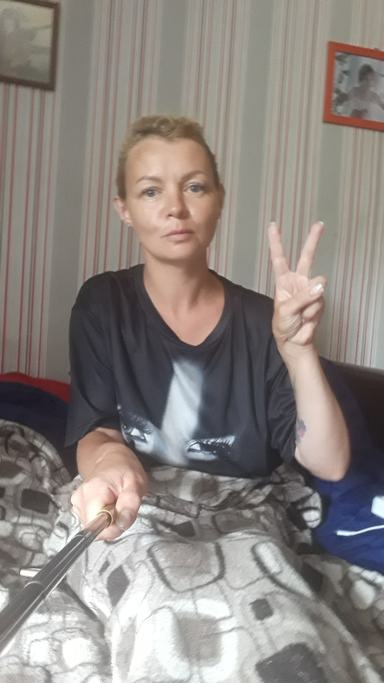peace: (262, 214, 336, 353)
